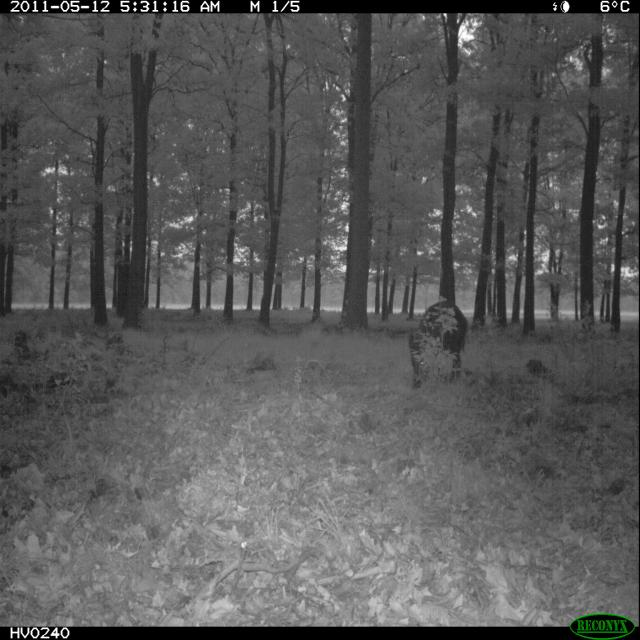boar: (386, 267, 494, 415)
